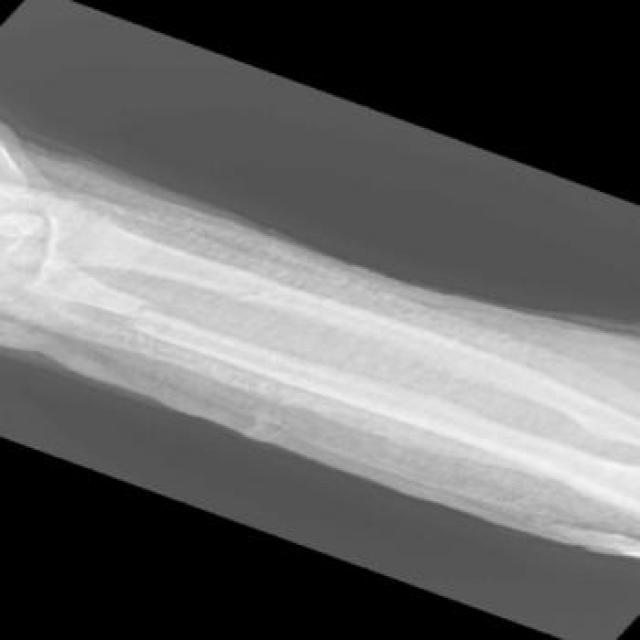Fracture: (120, 294, 163, 330)
